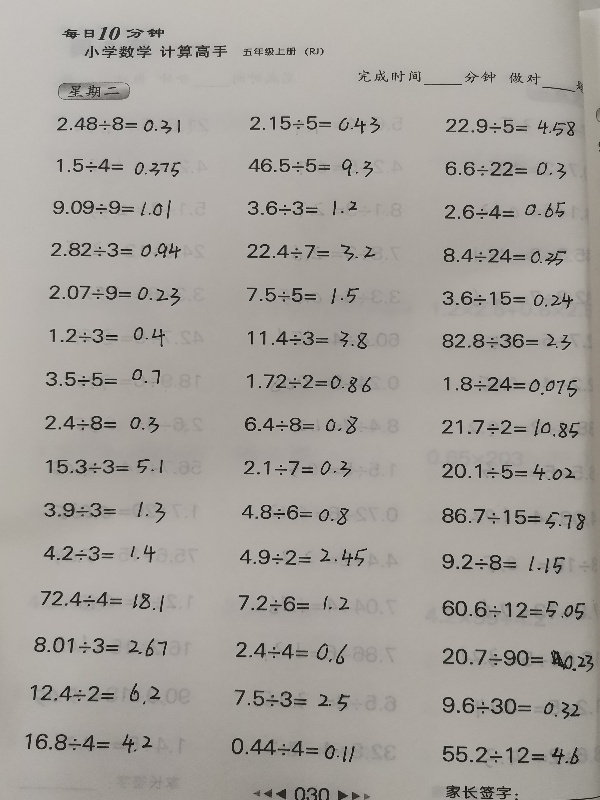equation: (438, 644, 600, 671), (438, 596, 600, 623), (35, 498, 181, 527), (29, 408, 177, 436), (230, 587, 364, 617), (26, 681, 171, 708), (40, 323, 178, 351), (243, 191, 371, 221), (37, 365, 179, 392), (437, 505, 589, 530), (439, 373, 580, 399), (437, 414, 583, 439), (438, 694, 583, 719), (35, 542, 169, 569), (438, 742, 582, 767), (46, 281, 184, 307), (227, 735, 358, 762), (29, 633, 170, 658), (22, 730, 155, 756), (246, 111, 383, 136), (37, 586, 167, 612), (237, 545, 371, 570), (439, 287, 576, 311), (245, 153, 376, 178), (442, 114, 578, 138), (438, 551, 568, 576), (50, 197, 175, 223), (239, 283, 369, 308), (243, 239, 378, 263), (438, 460, 578, 483), (230, 687, 353, 713), (232, 638, 350, 665), (47, 238, 184, 261), (243, 370, 374, 394), (438, 329, 574, 352), (439, 244, 569, 268), (53, 112, 183, 136), (441, 157, 569, 181), (243, 326, 370, 350), (241, 413, 362, 438), (53, 155, 184, 178), (238, 500, 352, 526), (441, 199, 568, 222), (43, 455, 167, 478), (241, 457, 355, 481)
